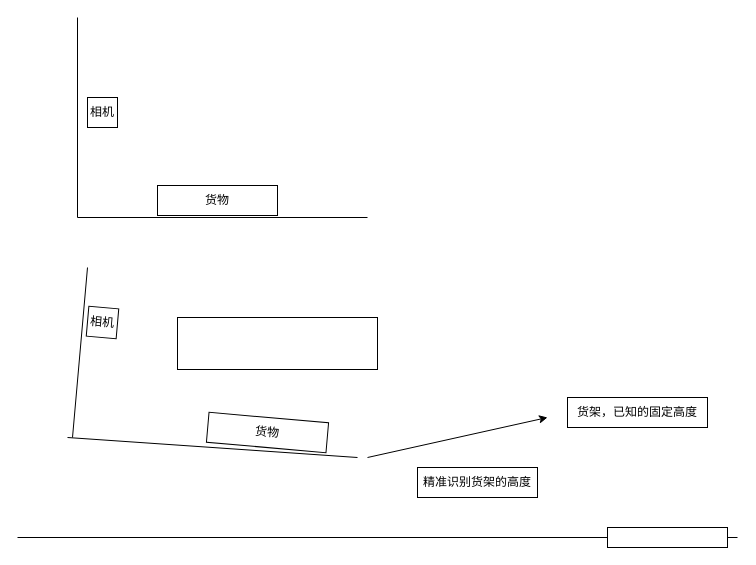
Image size: 756x565. Some labels were removed from this diagram. The box of each missing label's shape, as (x1, y1, x2, y2) in pixels:
地面: (606, 526, 728, 548)
重型货物会导致拆车叉臂向前倾覆3-5°: (176, 316, 378, 370)
